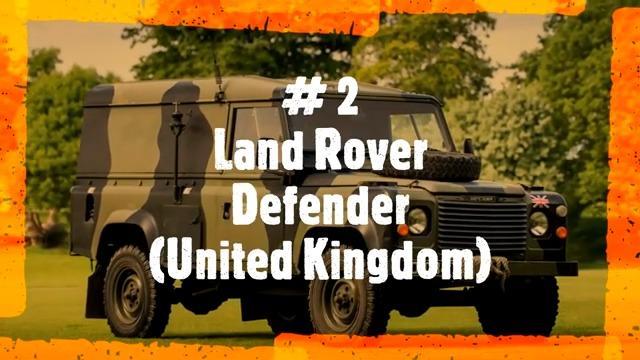MIL_HMMWV: (67, 72, 579, 349)
